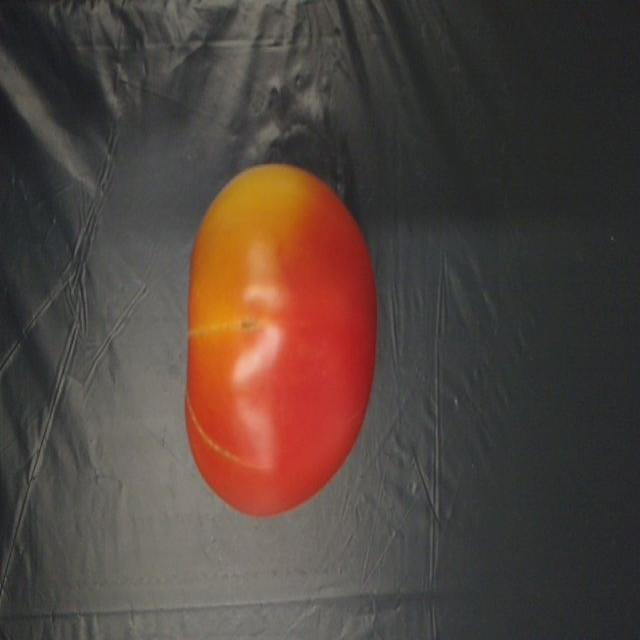sari: (178, 145, 386, 522)
